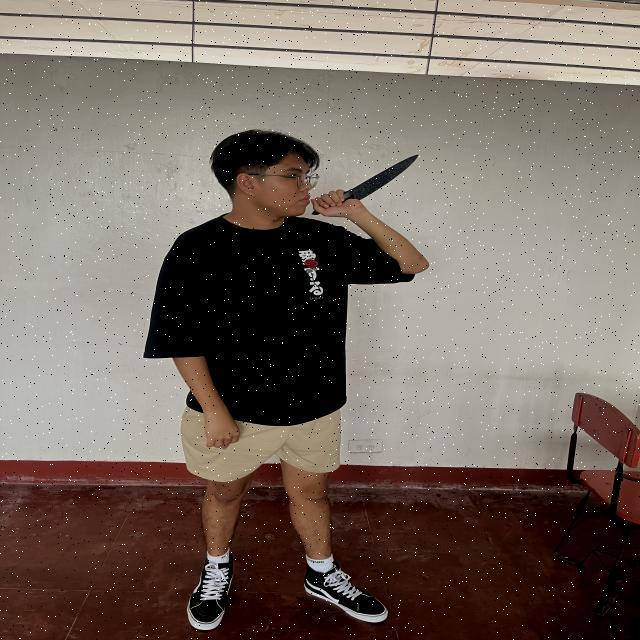knife: (315, 154, 420, 216)
non-violence: (144, 130, 431, 630)
